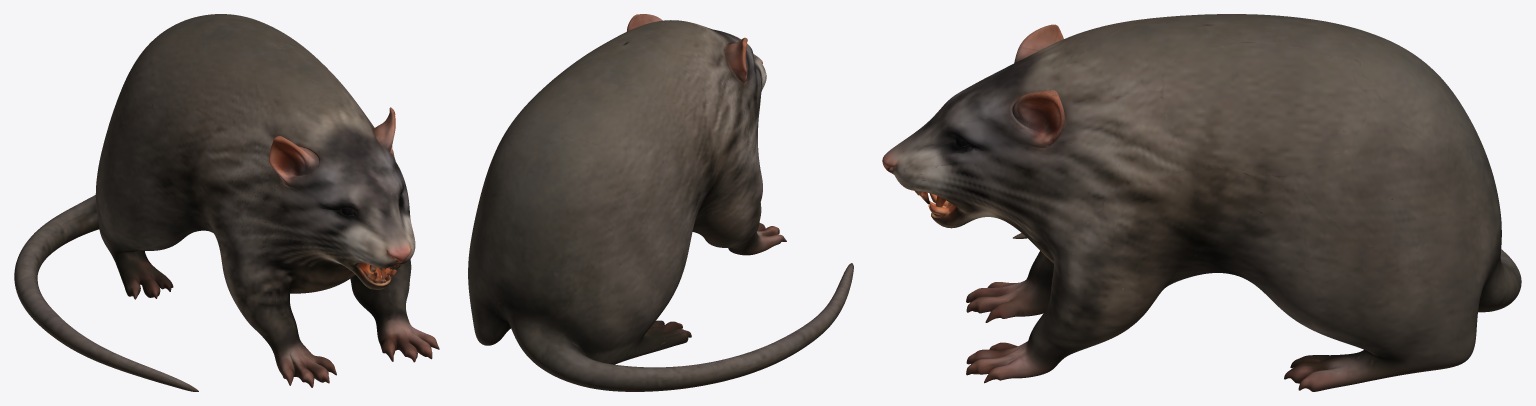
Rendered from giant_rat.glb.
3 views of the same model, side by side, from view 1: azimuth 30°, elevation 25°; view 2: azimuth 150°, elevation 25°; view 3: azimuth 270°, elevation 25° (orthographic). The views are drawn at different scales.
Visible parts, largest first — view 1: material; view 2: material; view 3: material.
Part boxes in pixels (x1=…): material: x1=14, y1=14, x2=439, y2=391; material: x1=468, y1=14, x2=853, y2=391; material: x1=882, y1=14, x2=1521, y2=391.
Size of the model in its own units: 0.7231 by 0.5909 by 1.08.
Materials: 1 (1 with a texture image).
